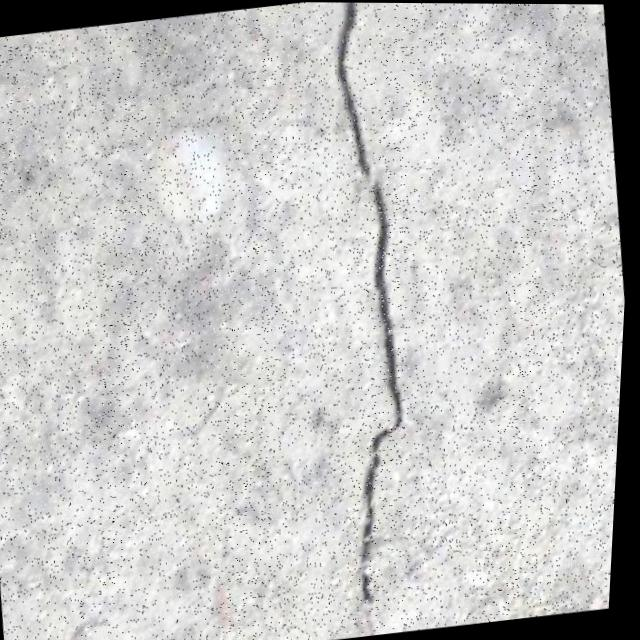Crack: (282, 2, 460, 637)
